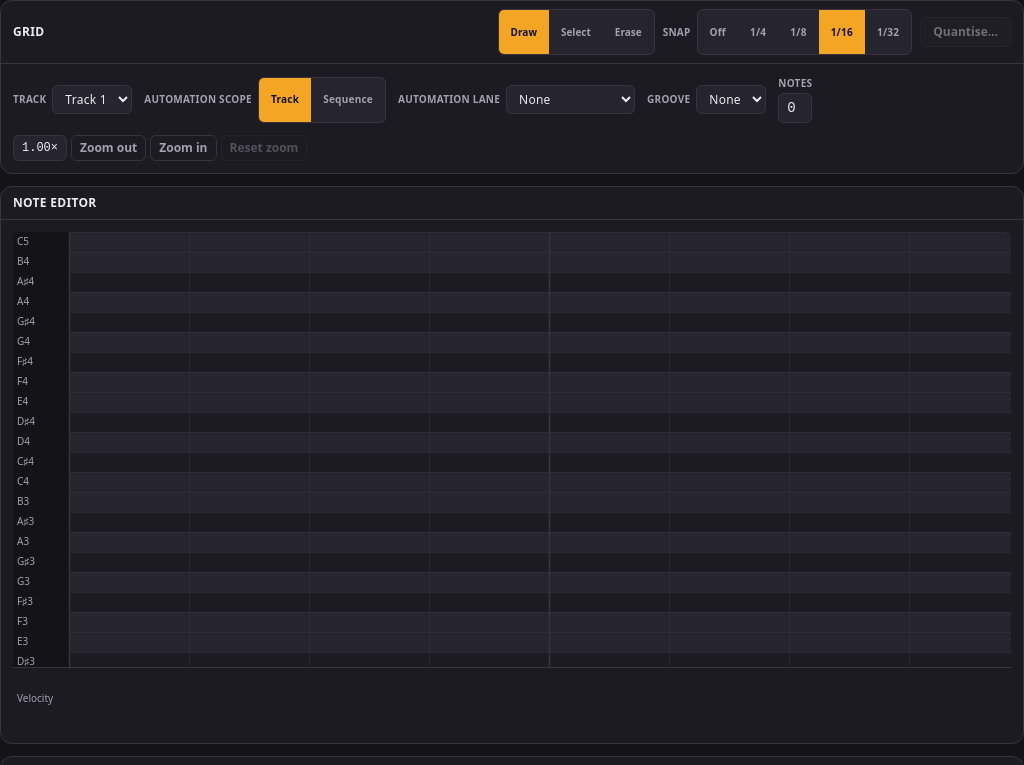
Test: authoring automation points (spec §7.8) › says which scope wins when both hold the same target (spec §7.8)
Click the radio button labelled "Sequence": (348, 100) x1=311 y1=78 x2=385 y2=122
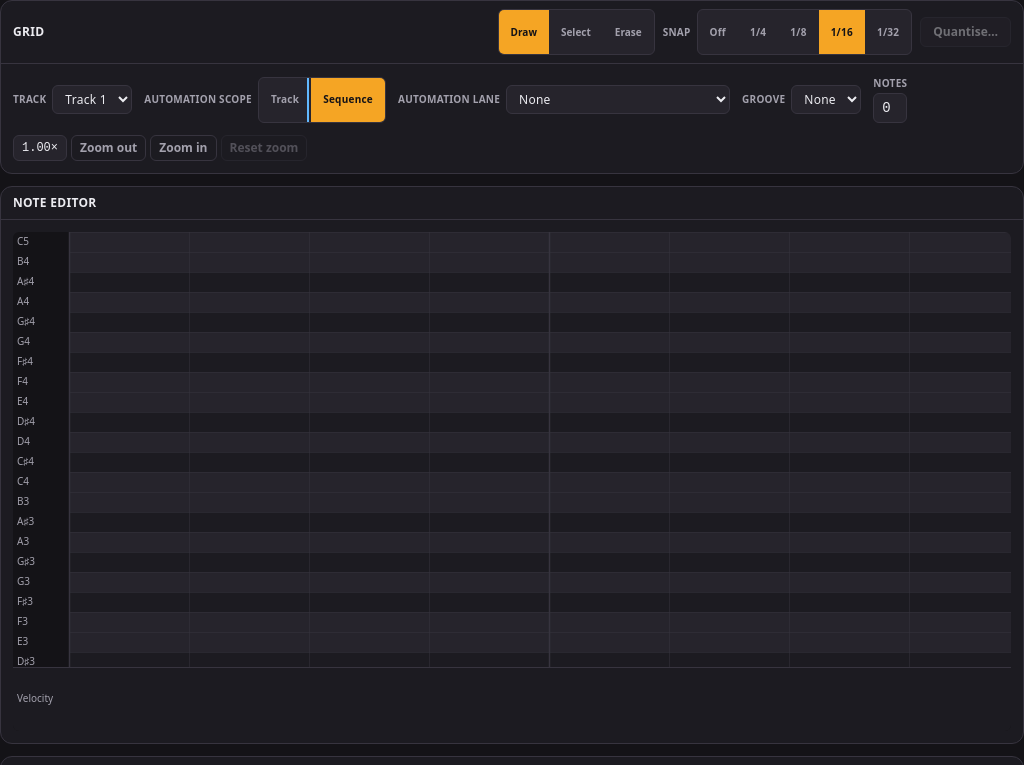
Select "Master · level" in the dropdown labelled "Automation lane": (618, 100) x1=506 y1=85 x2=730 y2=114
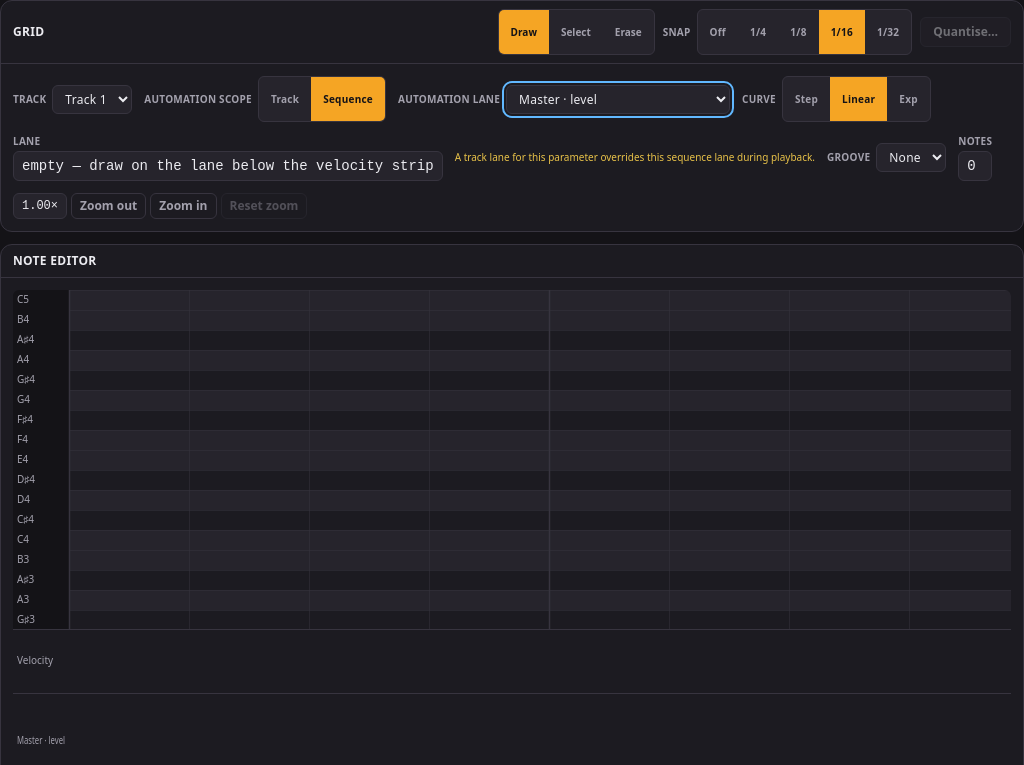
Check: the text with test id "grid-automation-override" shows "A track lane for this parameter overrides this sequence lane", box x1=455 y1=150 x2=815 y2=164
